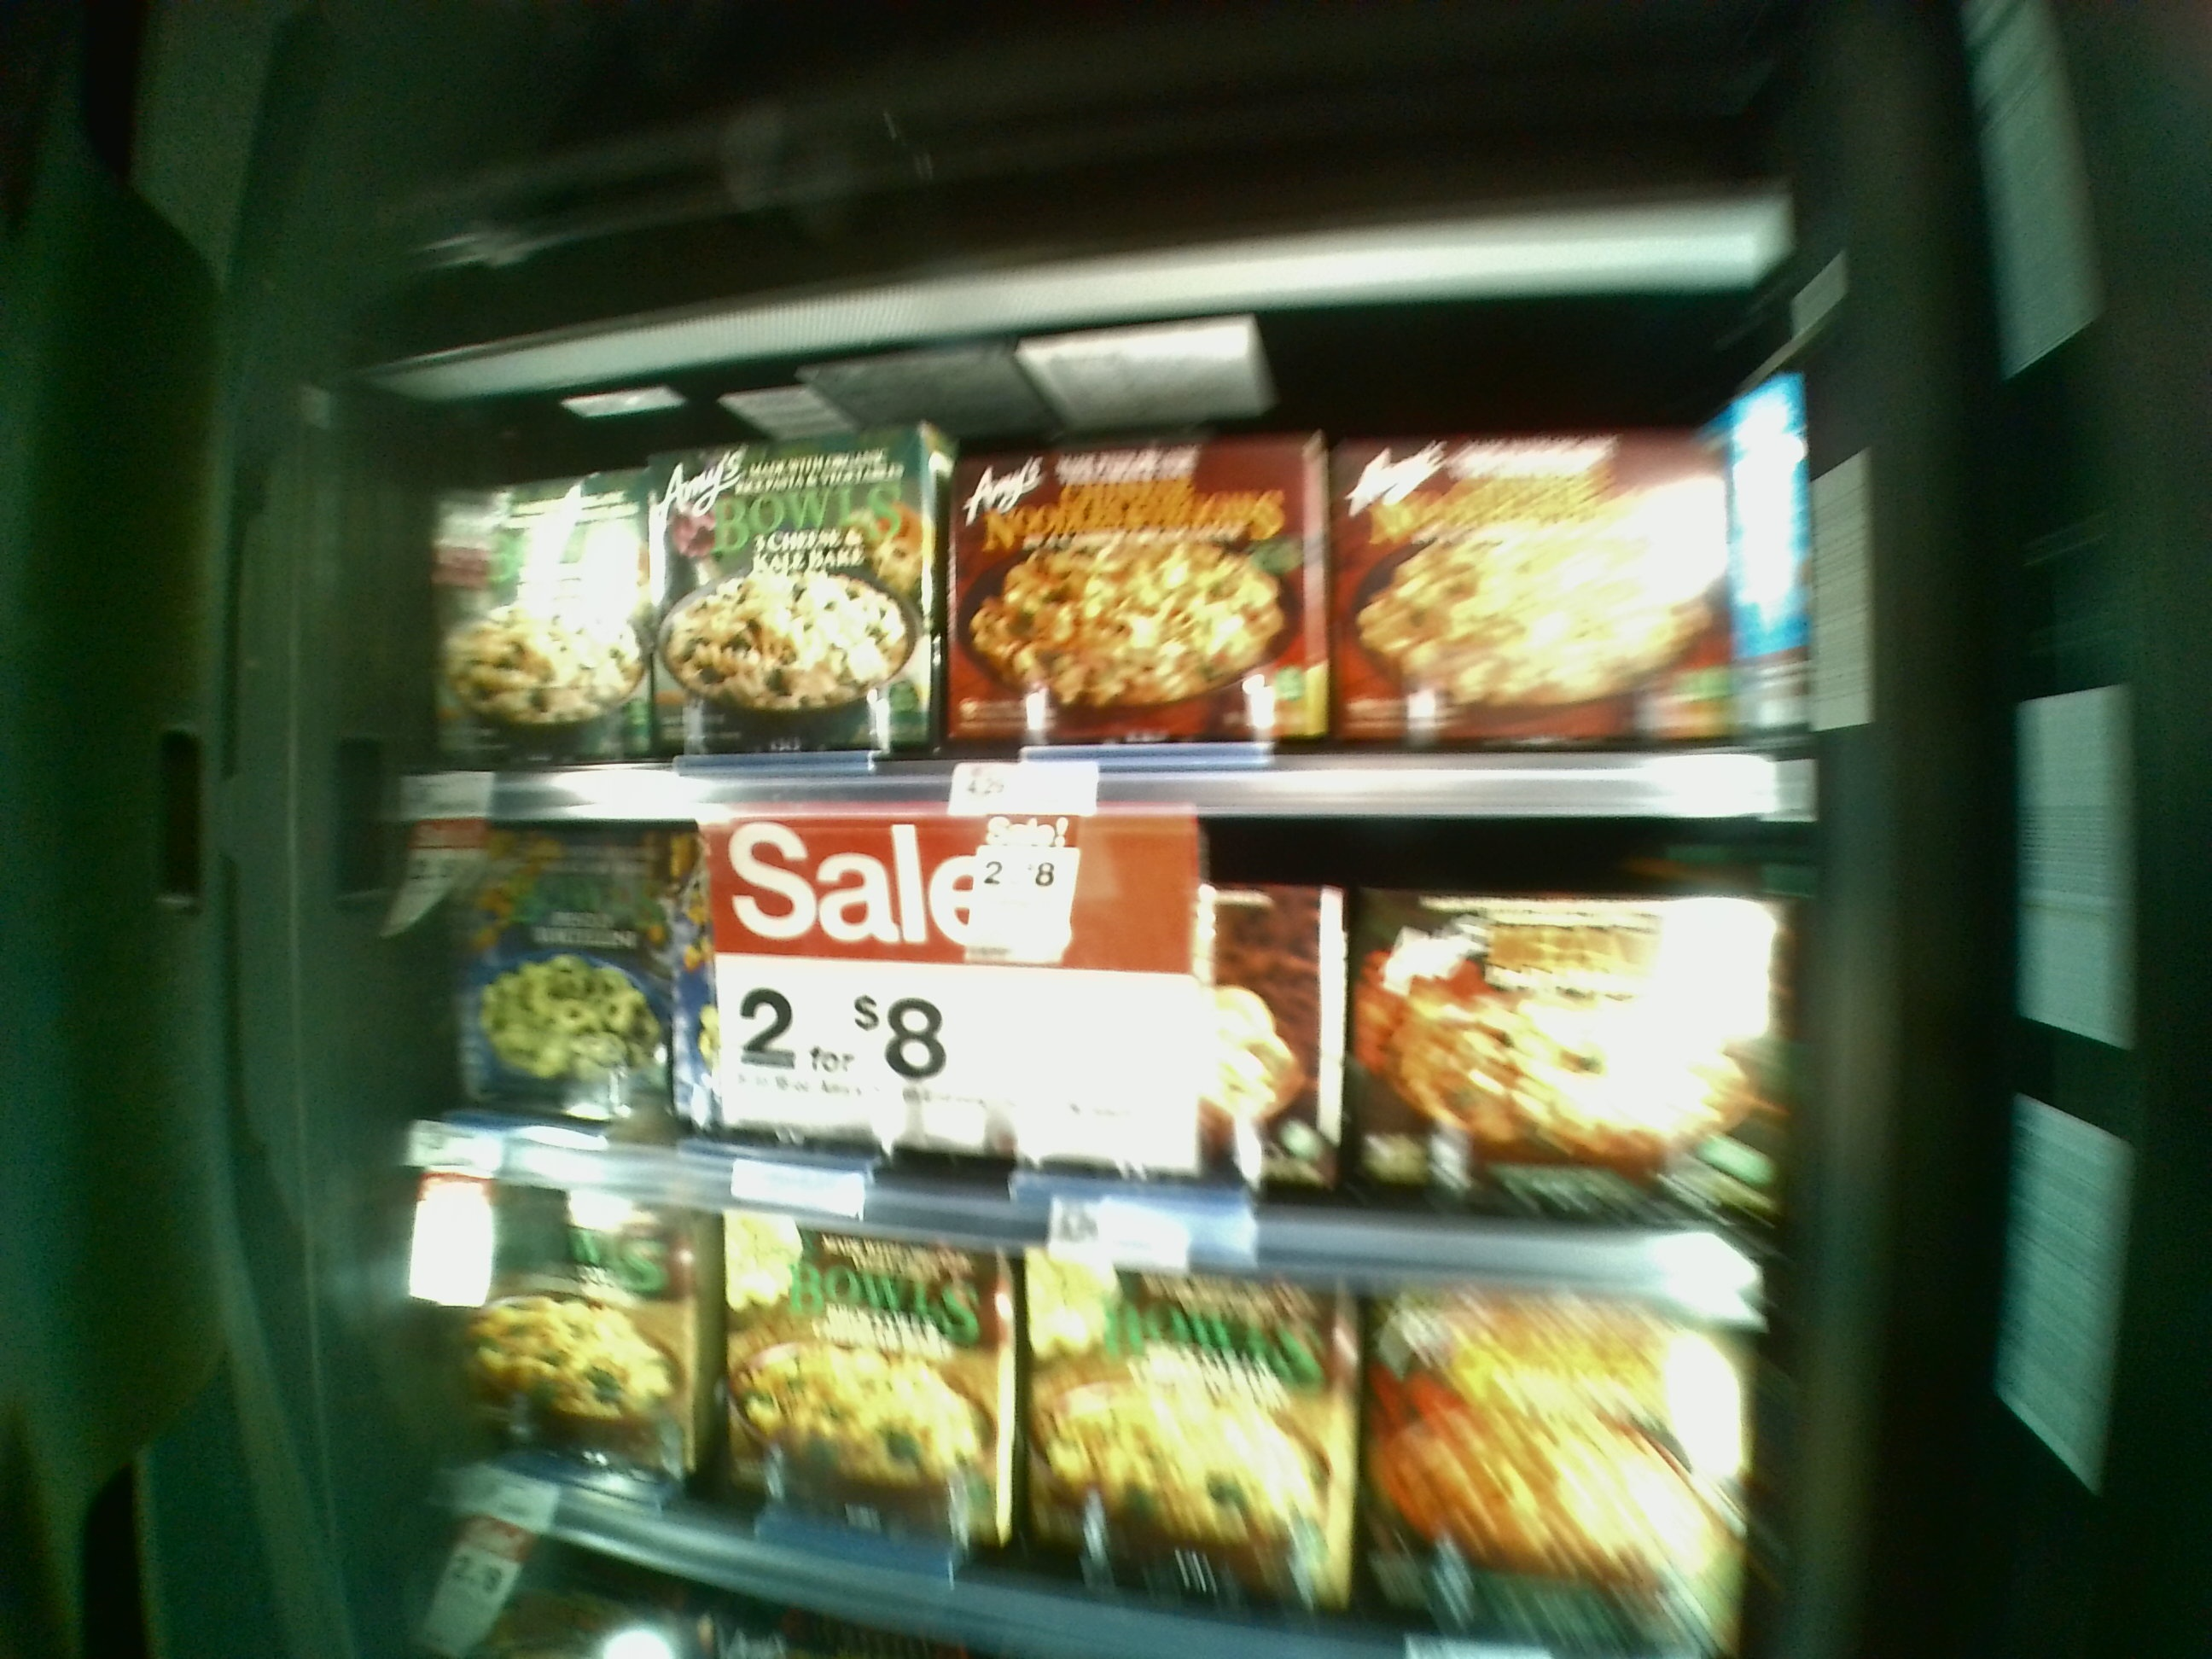shelf: (381, 383, 1824, 812), (425, 1192, 1743, 1617), (409, 829, 1784, 1213)
